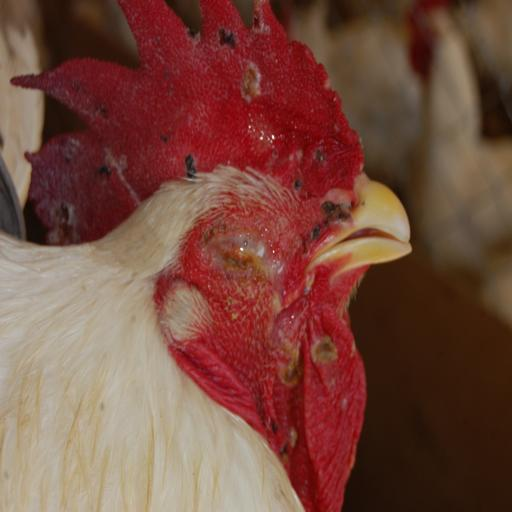disease: (237, 92, 359, 197), (196, 196, 303, 305), (29, 134, 135, 240), (197, 6, 284, 112), (264, 318, 349, 410), (152, 109, 203, 181)
